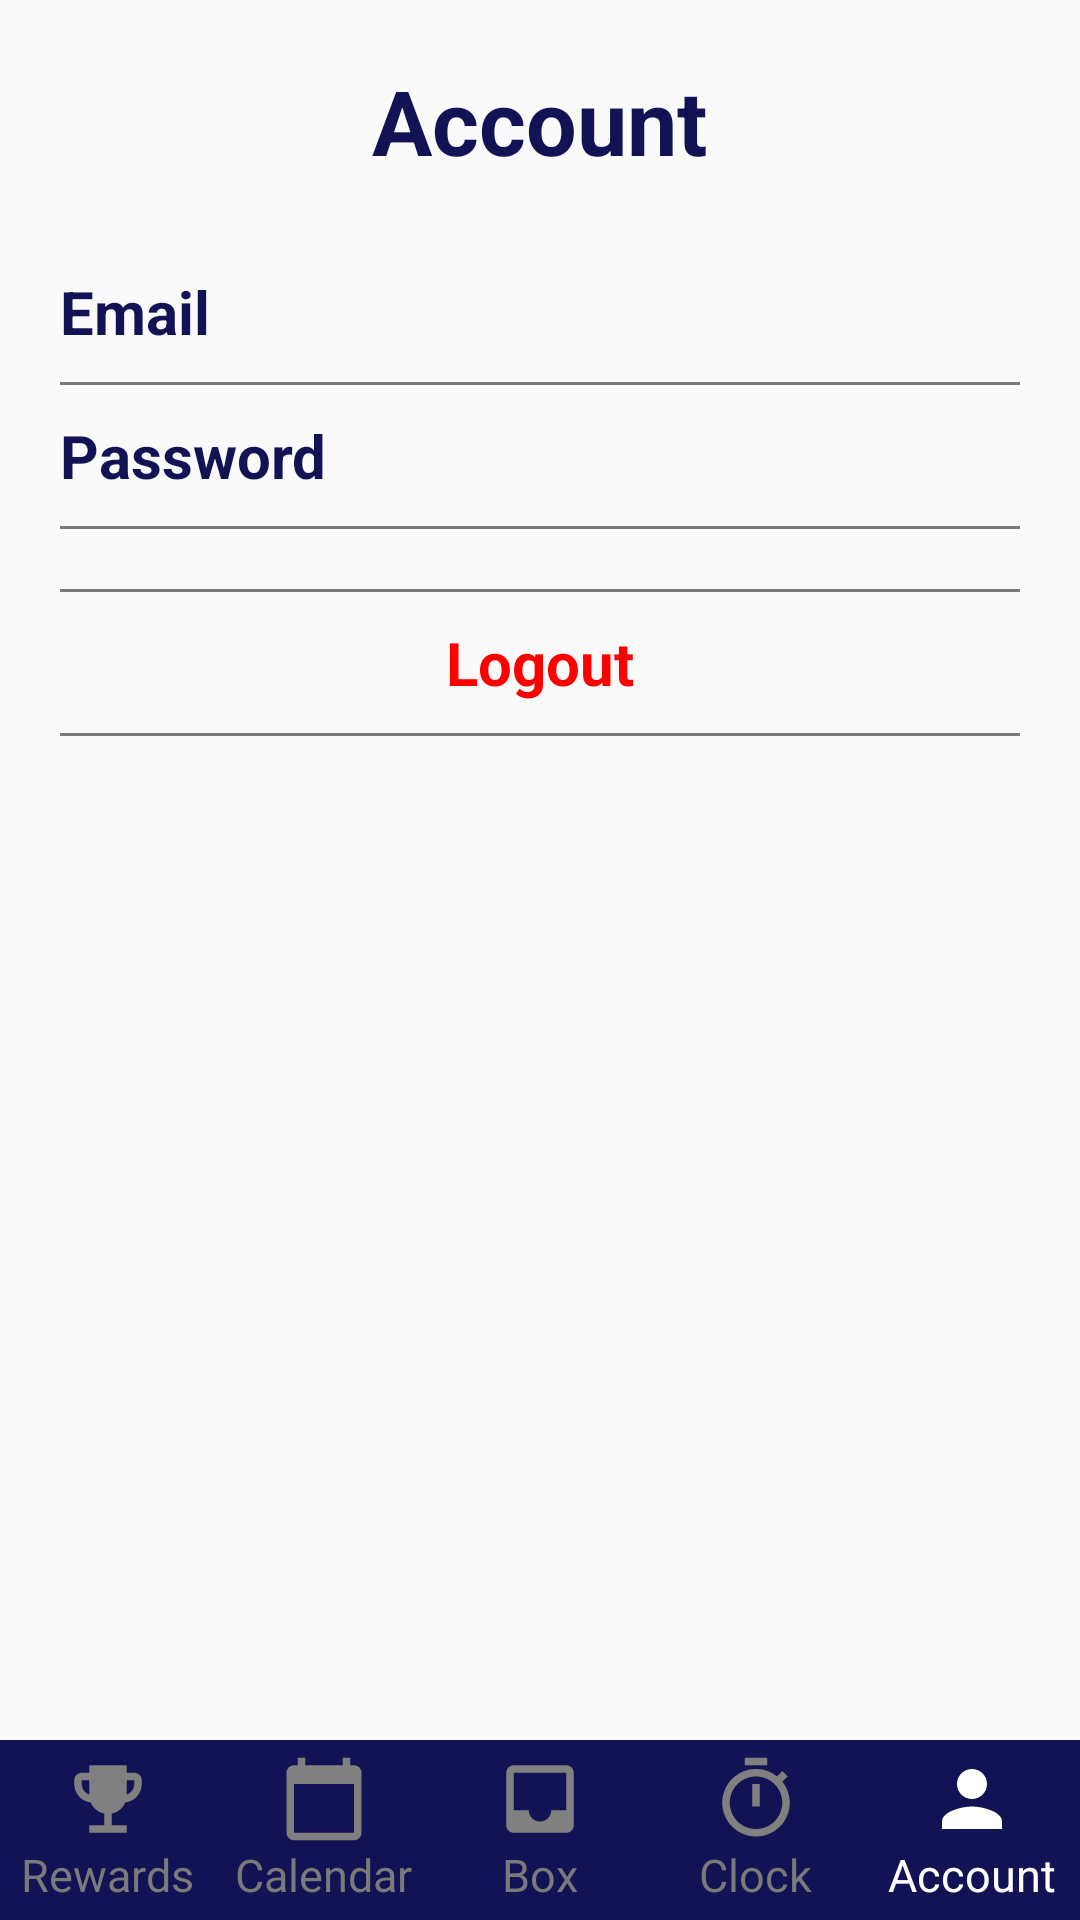

Icons on this 1080w x 1920h Android screen, each with the point to tap as (x,y):
person: (972,1799)
